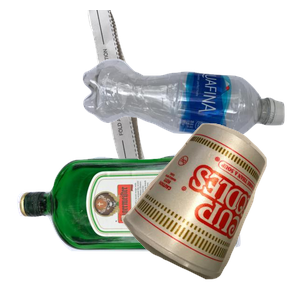glass: (14, 150, 247, 300)
paper: (85, 10, 224, 190)
plastic: (80, 56, 300, 187)
trash: (119, 121, 300, 300)
